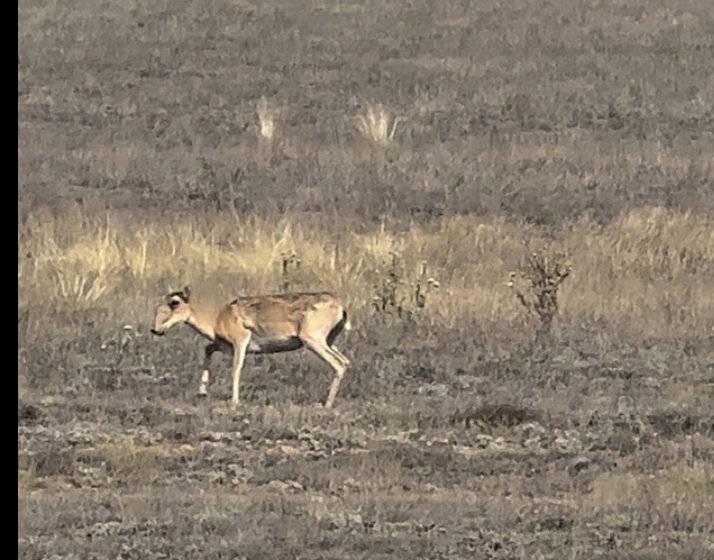saiga: (135, 282, 355, 403)
